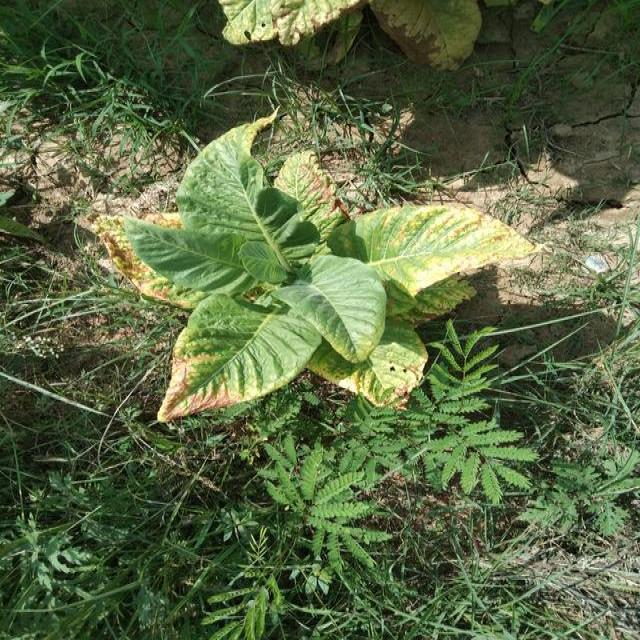crop: (94, 124, 534, 424), (217, 0, 484, 68)
